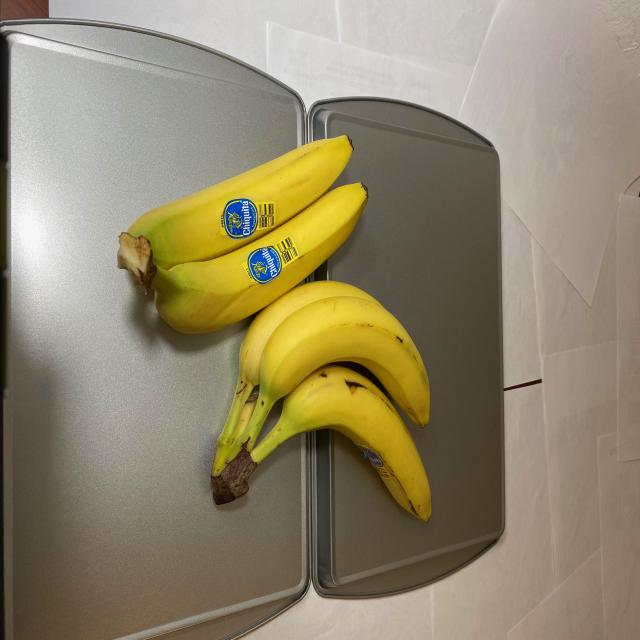banana: (118, 130, 437, 534)
